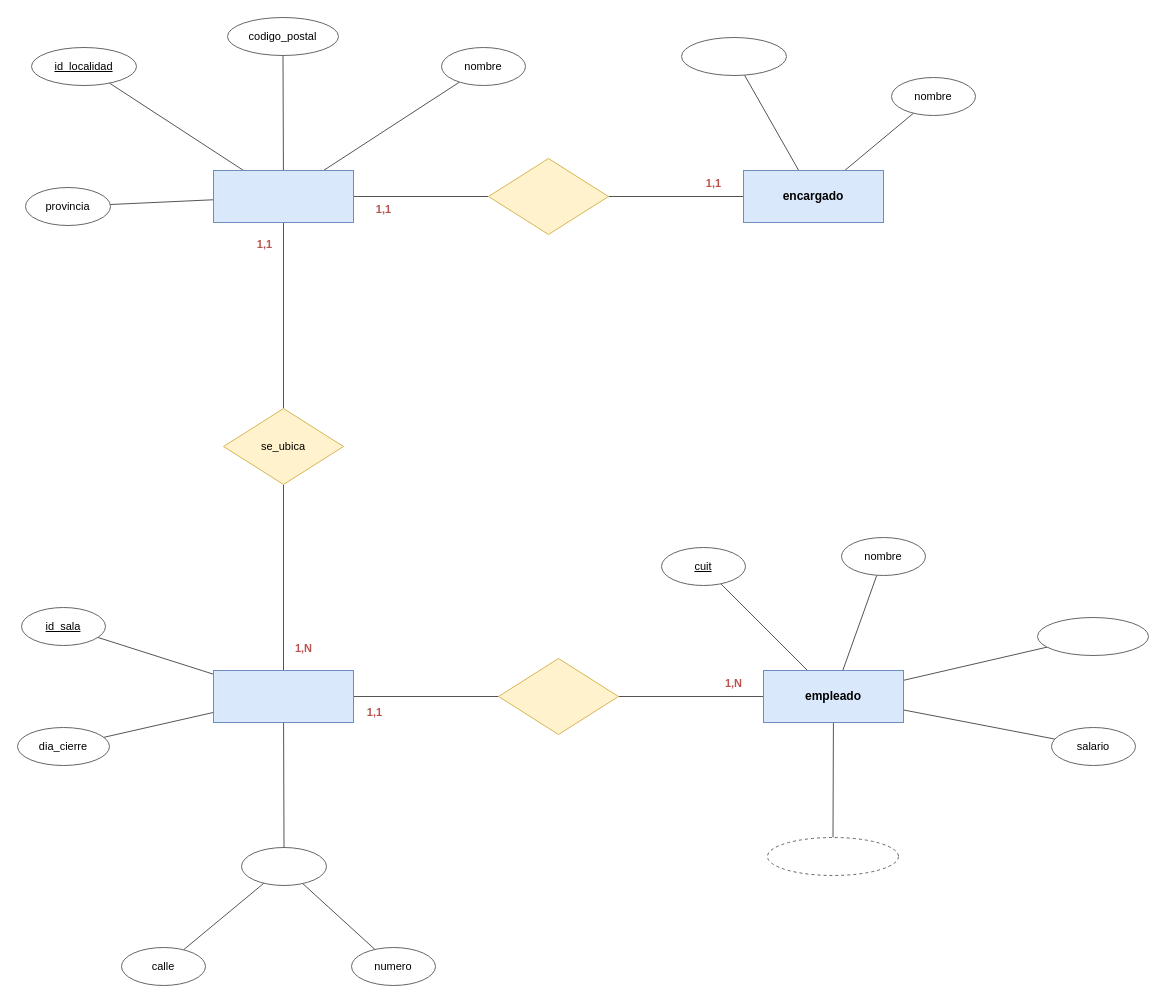
Some shapes in this 1166 by 1003 pixel diagram are drawn without their labels. The shapes that lost their labels are listed below. From the top down, each one's centre as x and y in pixels, then its label:
the point at 733,56: id_encargado
the point at 283,196: localidad
the point at 548,196: tiene
the point at 1092,636: fecha_ingreso
the point at 283,696: sala_venta
the point at 558,696: trabaja
the point at 283,866: direccion
the point at 832,856: antiguedad_anios
